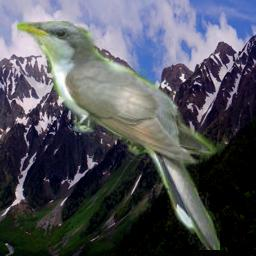Cuckoo: (17, 21, 220, 250)
